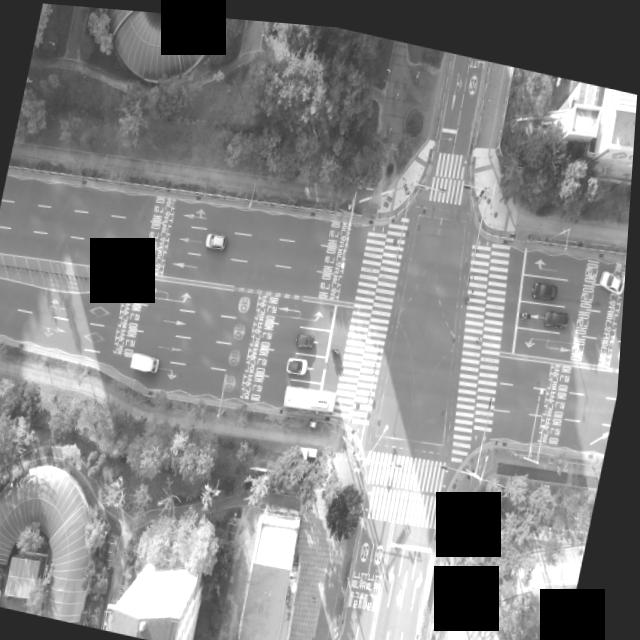car: (601, 258, 629, 283), (536, 271, 561, 292), (547, 300, 574, 319), (290, 351, 311, 371), (207, 228, 228, 247), (299, 326, 318, 343)
small_truck: (133, 346, 164, 371)
